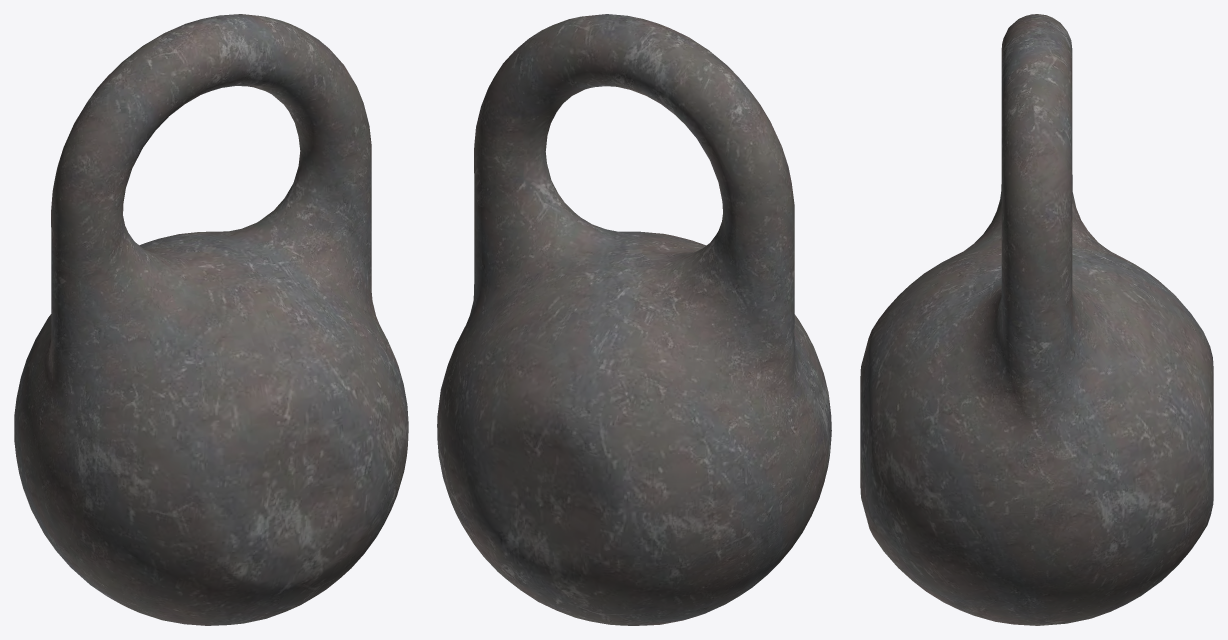
The model's file is kettlebell_old_iron.glb.
The picture shows the model from 3 angles, left to right: view 1: azimuth 30°, elevation 25°; view 2: azimuth 150°, elevation 25°; view 3: azimuth 270°, elevation 25°; orthographic projection.
Visible parts, largest first — view 1: Kettlebell; view 2: Kettlebell; view 3: Kettlebell.
Boxes of the visible parts, left/top/right/bottom form: Kettlebell: left=14, top=14, right=408, bottom=625; Kettlebell: left=437, top=14, right=831, bottom=625; Kettlebell: left=860, top=14, right=1213, bottom=625.
Bounding box in the file's own units: 0.1746 × 0.28 × 0.1589.
1 material, 1 textured.
